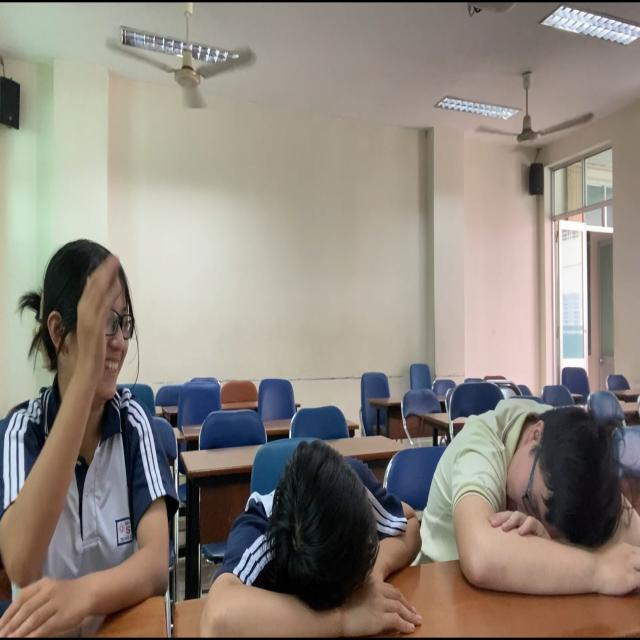sleep: (395, 399, 640, 640), (188, 434, 430, 638)
